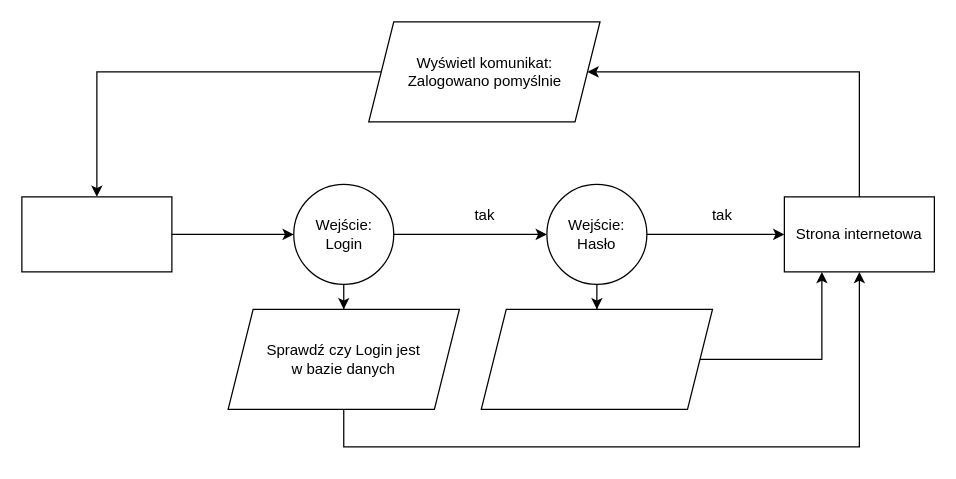
Image size: 956x479. Some labels were removed from this diagram. The shapes that lost their labels are listed below. From the top down, each one's centre as x and y in pixels, then its label:
At (96,234): "Użytkownik".
At (596,358): "Sprawdź czy Hasło jest w bazie danych".
